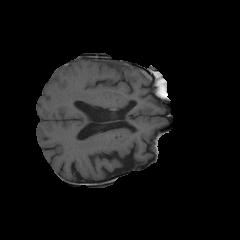glioma: (102, 60, 163, 96)
